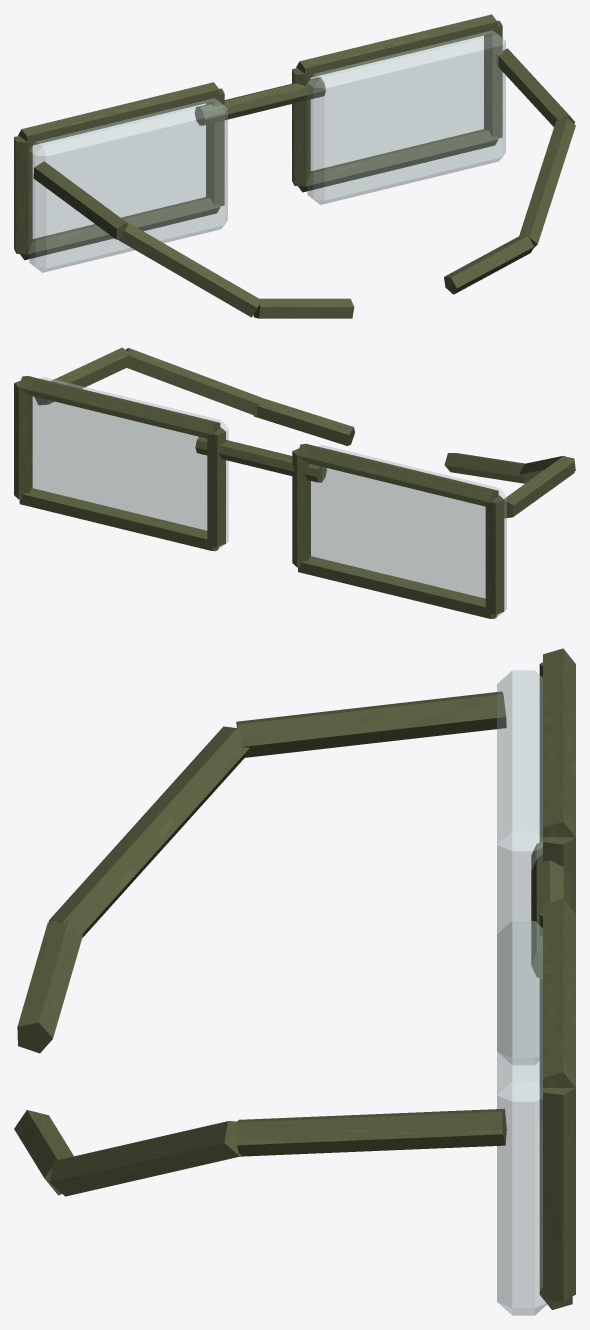
File: glasses_reading.glb
The picture shows the model from 3 angles, top to bottom: view 1: azimuth 30°, elevation 25°; view 2: azimuth 150°, elevation 25°; view 3: azimuth 270°, elevation 25°; orthographic projection. The views are drawn at different scales.
Visible parts, largest first — view 1: block_lens 1, block_lens -1, block_lens rim 1 1, block_lens rim -1 1, block_lens rim 1 3, block_folded temple -1 1, block_lens rim -1 3, block_folded temple 1 1, block_bridge, block_folded temple -1 0, block_lens rim -1 0, block_folded temple -1 2 (+5 smaller); view 2: block_lens -1, block_lens 1, block_lens rim -1 1, block_lens rim 1 1, block_lens rim -1 3, block_lens rim 1 3, block_folded temple 1 1, block_lens rim -1 0, block_lens rim 1 0, block_folded temple 1 2, block_bridge, block_lens rim 1 2 (+5 smaller); view 3: block_lens 1, block_lens -1, block_folded temple 1 0, block_folded temple -1 0, block_folded temple -1 1, block_folded temple 1 1, block_lens rim 1 2, block_lens rim -1 1, block_lens rim 1 1, block_folded temple -1 2, block_bridge, block_folded temple 1 2 (+2 smaller).
Part boxes in pixels (bbox=[...]): block_lens 1: bbox=[307, 30, 505, 204]; block_lens -1: bbox=[29, 98, 227, 272]; block_lens rim 1 1: bbox=[296, 14, 497, 78]; block_lens rim -1 1: bbox=[18, 82, 219, 146]; block_lens rim 1 3: bbox=[298, 129, 498, 192]; block_folded temple -1 1: bbox=[119, 223, 261, 317]; block_lens rim -1 3: bbox=[20, 197, 220, 260]; block_folded temple 1 1: bbox=[519, 118, 575, 248]; block_bridge: bbox=[194, 77, 325, 125]; block_folded temple -1 0: bbox=[33, 161, 128, 239]; block_lens rim -1 0: bbox=[14, 136, 32, 254]; block_folded temple -1 2: bbox=[253, 298, 354, 318]; block_lens -1: bbox=[310, 444, 506, 619]; block_lens 1: bbox=[32, 376, 228, 551]; block_lens rim -1 1: bbox=[297, 443, 498, 506]; block_lens rim 1 1: bbox=[19, 375, 220, 438]; block_lens rim -1 3: bbox=[298, 556, 497, 618]; block_lens rim 1 3: bbox=[19, 488, 218, 550]; block_folded temple 1 1: bbox=[126, 347, 260, 416]; block_lens rim -1 0: bbox=[485, 495, 504, 614]; block_lens rim 1 0: bbox=[207, 427, 225, 546]; block_folded temple 1 2: bbox=[253, 397, 354, 445]; block_bridge: bbox=[195, 437, 326, 482]; block_lens rim 1 2: bbox=[14, 380, 32, 499]; block_lens 1: bbox=[497, 921, 546, 1315]; block_lens -1: bbox=[497, 670, 542, 1064]; block_folded temple 1 0: bbox=[236, 1108, 506, 1156]; block_folded temple -1 0: bbox=[236, 691, 506, 757]; block_folded temple -1 1: bbox=[48, 726, 249, 937]; block_folded temple 1 1: bbox=[49, 1121, 241, 1196]; block_lens rim 1 2: bbox=[543, 1088, 575, 1301]; block_lens rim -1 1: bbox=[543, 648, 575, 837]; block_lens rim 1 1: bbox=[543, 899, 575, 1087]; block_folded temple -1 2: bbox=[17, 919, 83, 1053]; block_bridge: bbox=[531, 841, 568, 979]; block_folded temple 1 2: bbox=[14, 1110, 73, 1195].
Size of the model in its own units: 0.1366 by 0.0363 by 0.074.
Materials: 2 (2 with a texture image).
